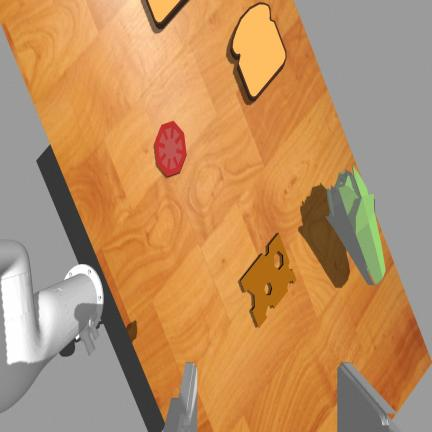cheese: (240, 233, 296, 326)
lettuce: (327, 167, 385, 283)
sliced_bread: (231, 3, 286, 100), (146, 0, 185, 28)
sliced_tomato: (155, 121, 186, 176)
